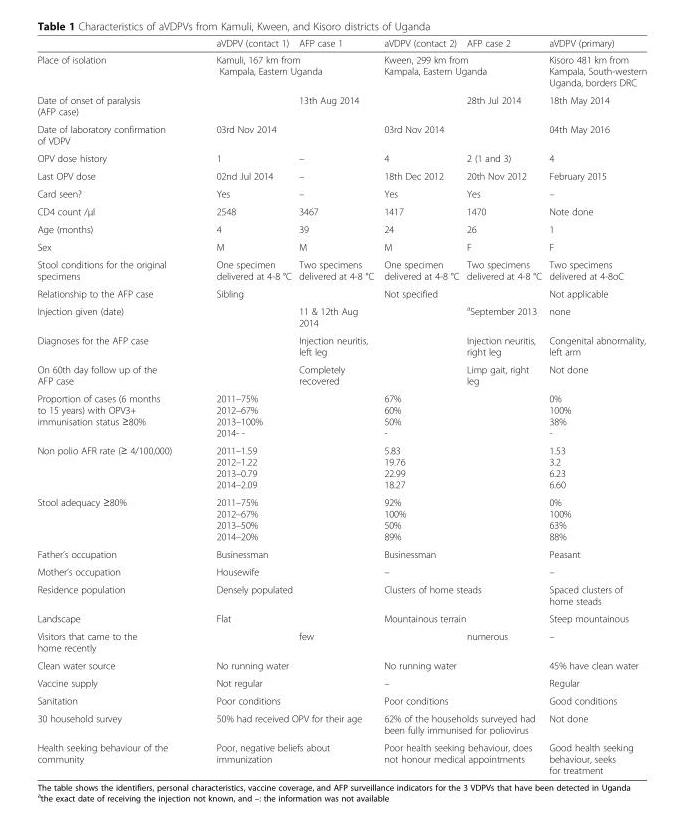table: (36, 37, 646, 775)
table column: (36, 37, 193, 775), (544, 37, 646, 775), (193, 37, 294, 775), (294, 37, 378, 775), (378, 37, 462, 775), (462, 37, 544, 775)
table column header: (36, 37, 646, 51)
table row: (36, 389, 646, 441), (36, 492, 646, 544), (36, 441, 646, 492), (36, 51, 646, 91), (36, 738, 646, 775), (36, 301, 646, 331), (36, 91, 646, 120), (36, 120, 646, 149), (36, 255, 646, 284), (36, 331, 646, 360), (36, 360, 646, 389), (36, 580, 646, 609), (36, 627, 646, 656), (36, 709, 646, 738), (36, 201, 646, 220), (36, 166, 646, 184), (36, 237, 646, 255), (36, 544, 646, 562), (36, 562, 646, 580), (36, 609, 646, 627), (36, 673, 646, 691), (36, 691, 646, 709), (36, 149, 646, 166), (36, 184, 646, 201), (36, 220, 646, 237), (36, 284, 646, 301), (36, 656, 646, 673), (36, 37, 646, 51)
table spanning cell: (193, 389, 378, 441), (193, 492, 378, 544), (193, 441, 378, 492), (378, 389, 544, 441), (378, 492, 544, 544), (378, 441, 544, 492), (193, 51, 378, 91), (193, 738, 378, 775), (378, 51, 544, 91), (378, 738, 544, 775), (193, 580, 378, 609), (193, 709, 378, 738), (378, 580, 544, 609), (378, 709, 544, 738), (193, 609, 378, 627), (193, 673, 378, 691), (193, 691, 378, 709), (193, 656, 378, 673), (378, 609, 544, 627), (378, 673, 544, 691), (378, 691, 544, 709), (378, 656, 544, 673)
